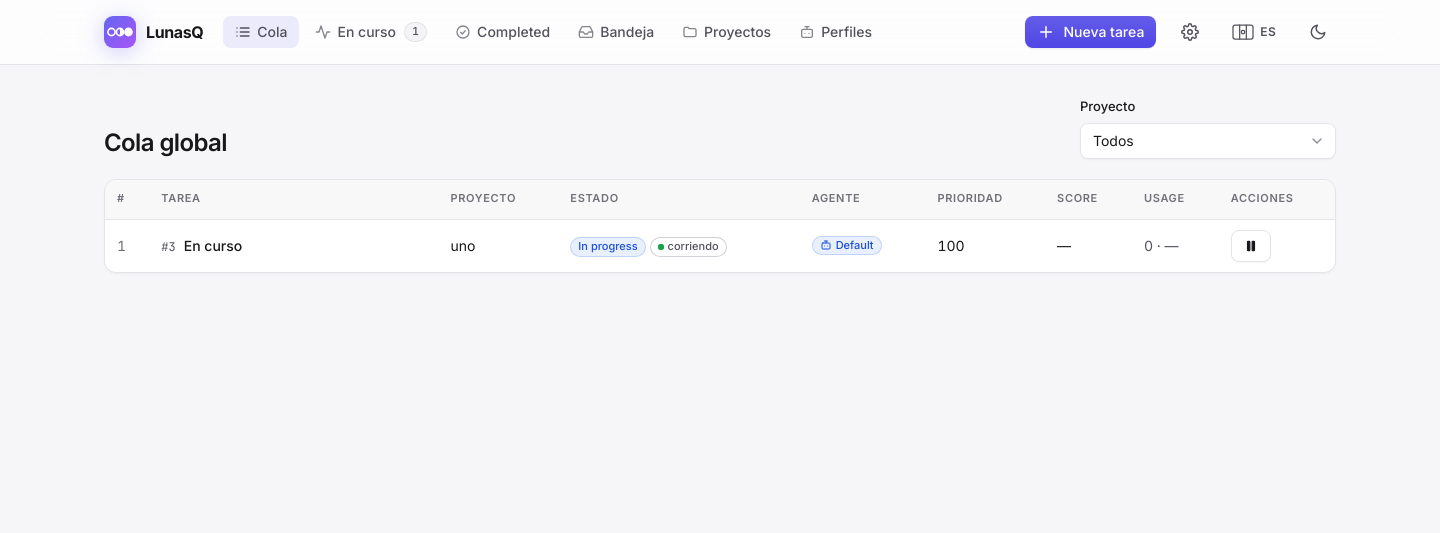
Test: Completed tab › links from the navigation and lists completed tasks of all projects
Click the link "Completed" at (503, 32), box x1=455 y1=23 x2=550 y2=40
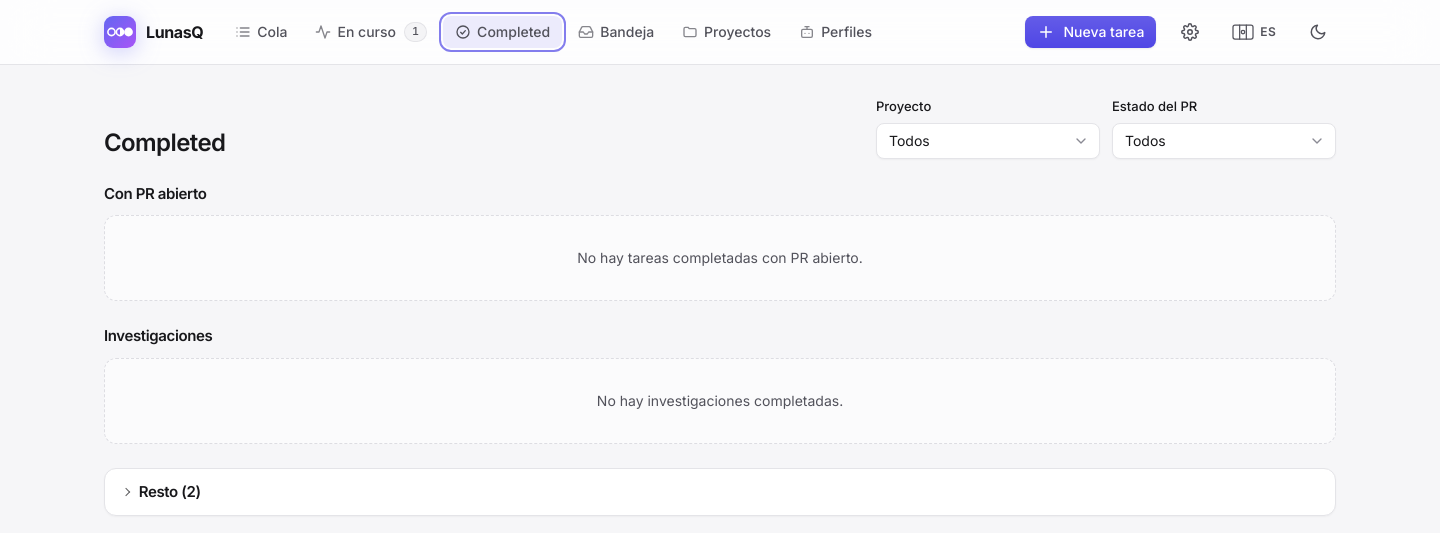
Check: the heading "Completed" is shown, box x1=104 y1=126 x2=225 y2=158
